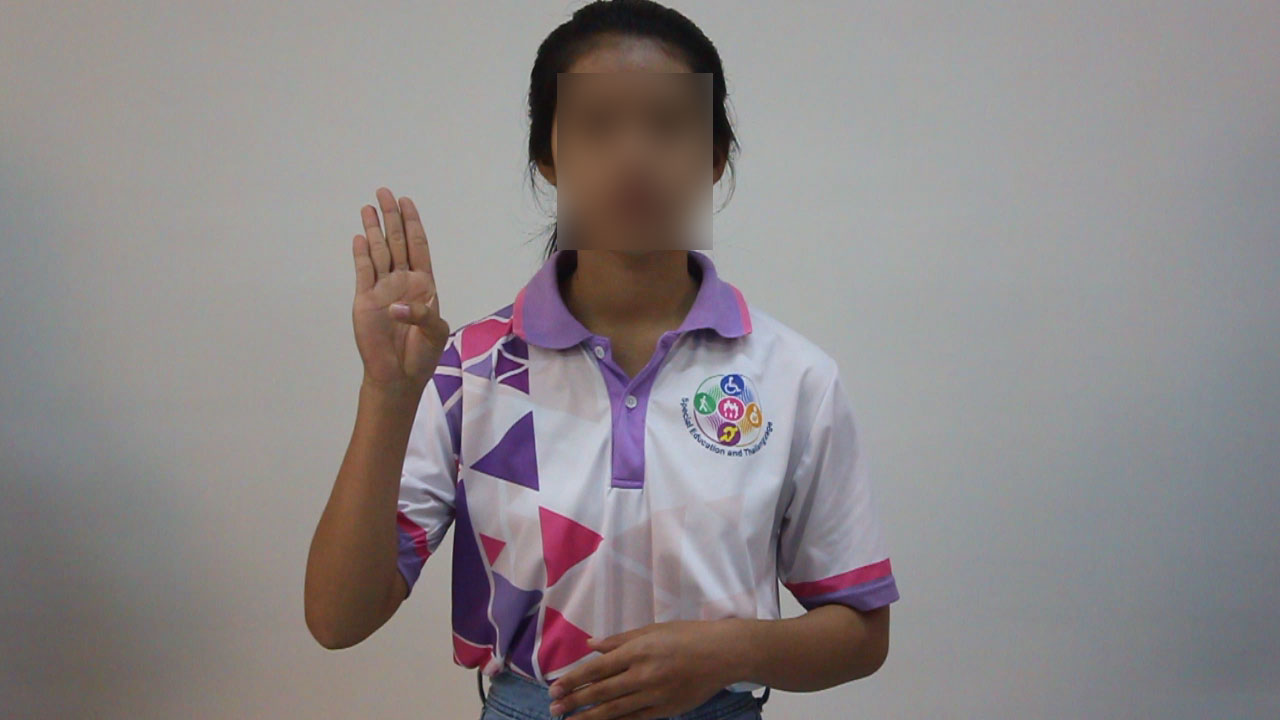bor: (332, 174, 460, 416)
